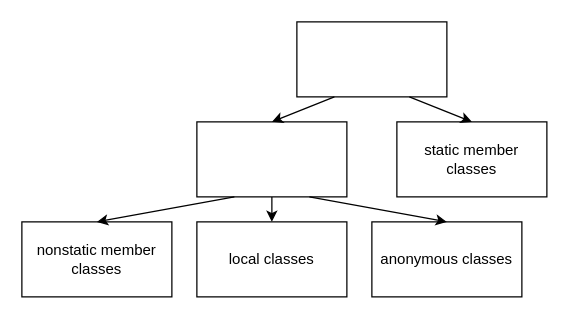
The diagram is 569 pixels wide and 319 high, and some of its shapes have lost their labels. Each missing label, with the centre of its shape:
"inner classes" goes at (271,159).
"Nested classes" goes at (371,59).
